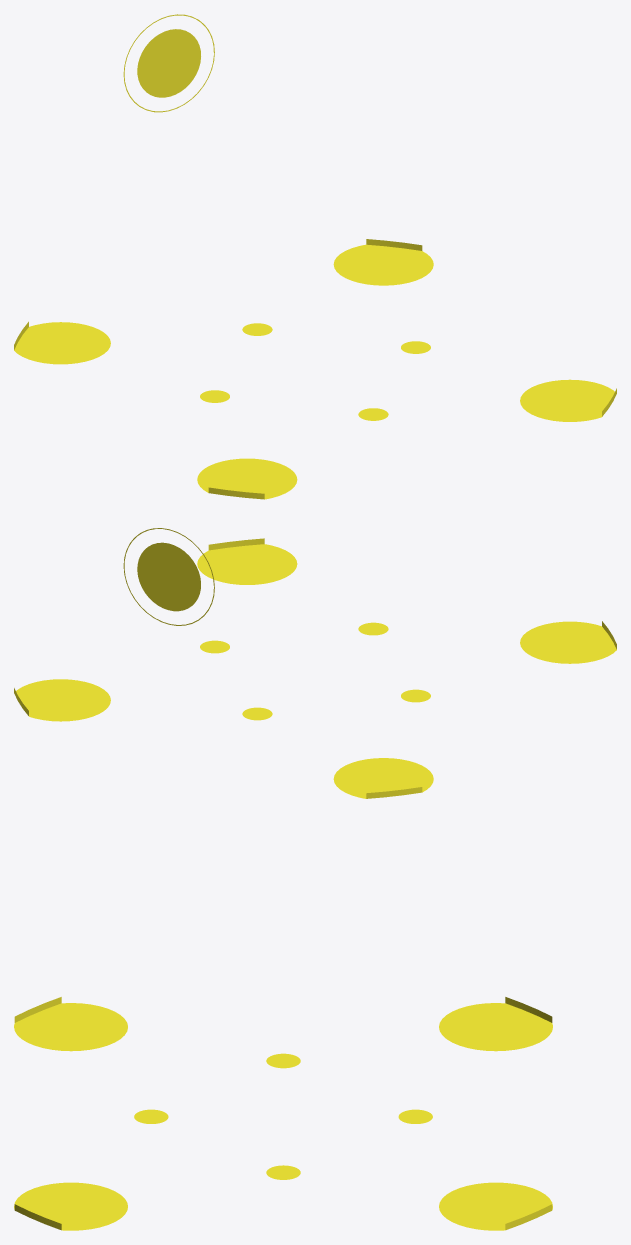
Rendered from ur3e_scaled_37.obj.
3 views of the same model, one above another, from view 1: azimuth 30°, elevation 25°; view 2: azimuth 150°, elevation 25°; view 3: azimuth 270°, elevation 25° (orthographic). The views are drawn at different scales.
Size of the model in its own units: 0.0449 by 0.0261 by 0.0502.
